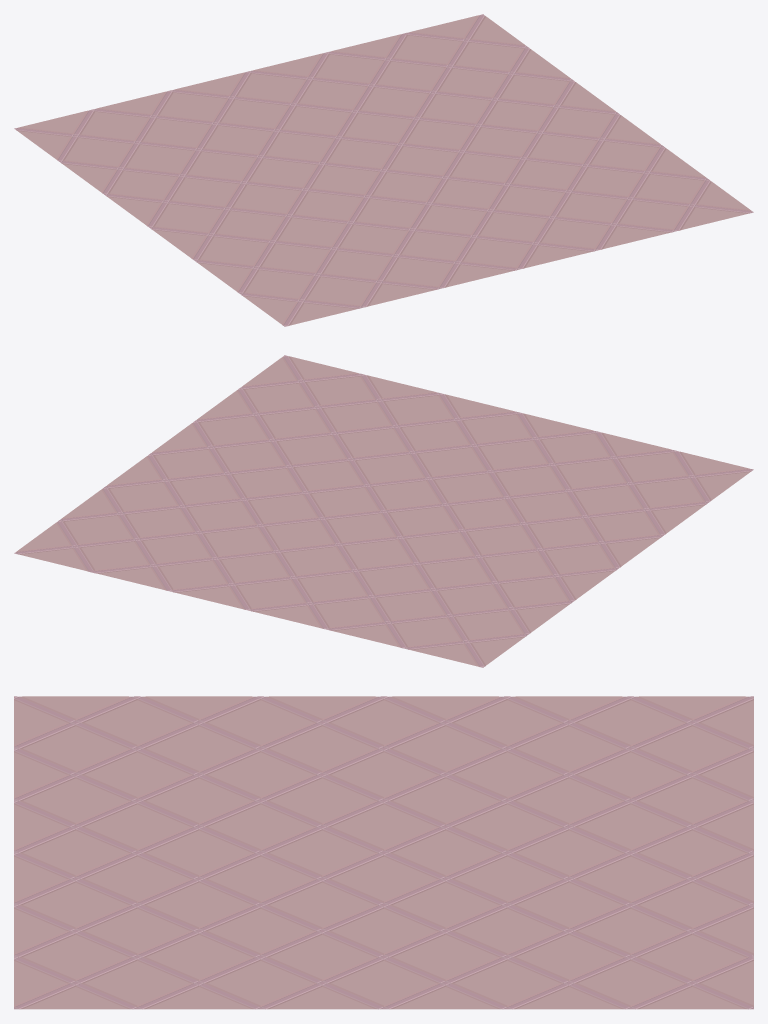
File: Floor Assembled C.fbx
3 renders of one model, top to bottom at view 1: azimuth 30°, elevation 25°; view 2: azimuth 150°, elevation 25°; view 3: azimuth 270°, elevation 25°, orthographic. The views are drawn at different scales.
Visible parts, largest first — view 1: Floor Assembled A.002; view 2: Floor Assembled A.002; view 3: Floor Assembled A.002.
Part boxes in pixels (left/top/right/bottom): Floor Assembled A.002: left=14, top=14, right=753, bottom=326; Floor Assembled A.002: left=14, top=355, right=753, bottom=667; Floor Assembled A.002: left=14, top=696, right=753, bottom=1009.
Size of the model in its own units: 9.29 by 0.00397 by 9.29.
